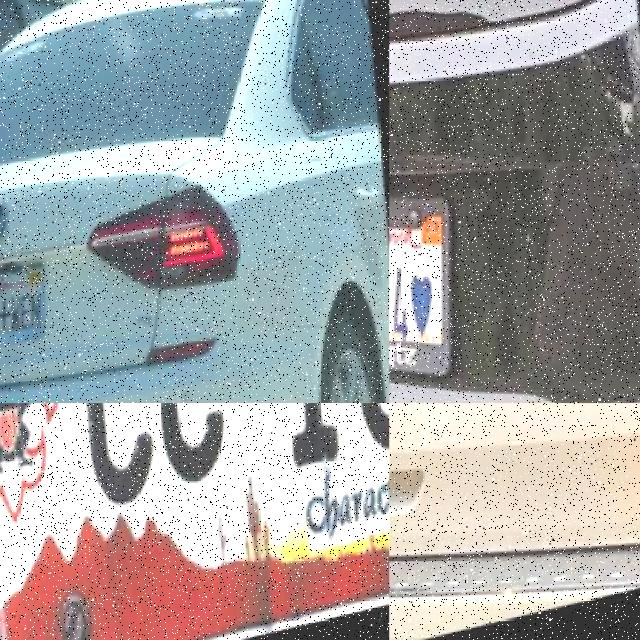licenseplate: (38, 403, 390, 632), (389, 172, 477, 398), (0, 250, 65, 358)
